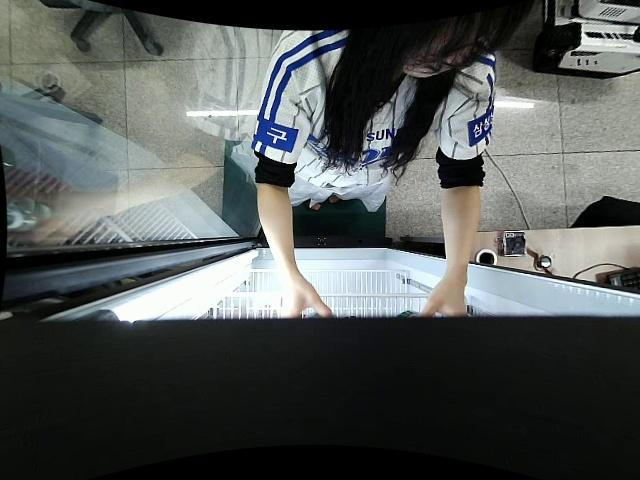00_hand: (275, 275, 335, 320), (415, 277, 470, 321)
